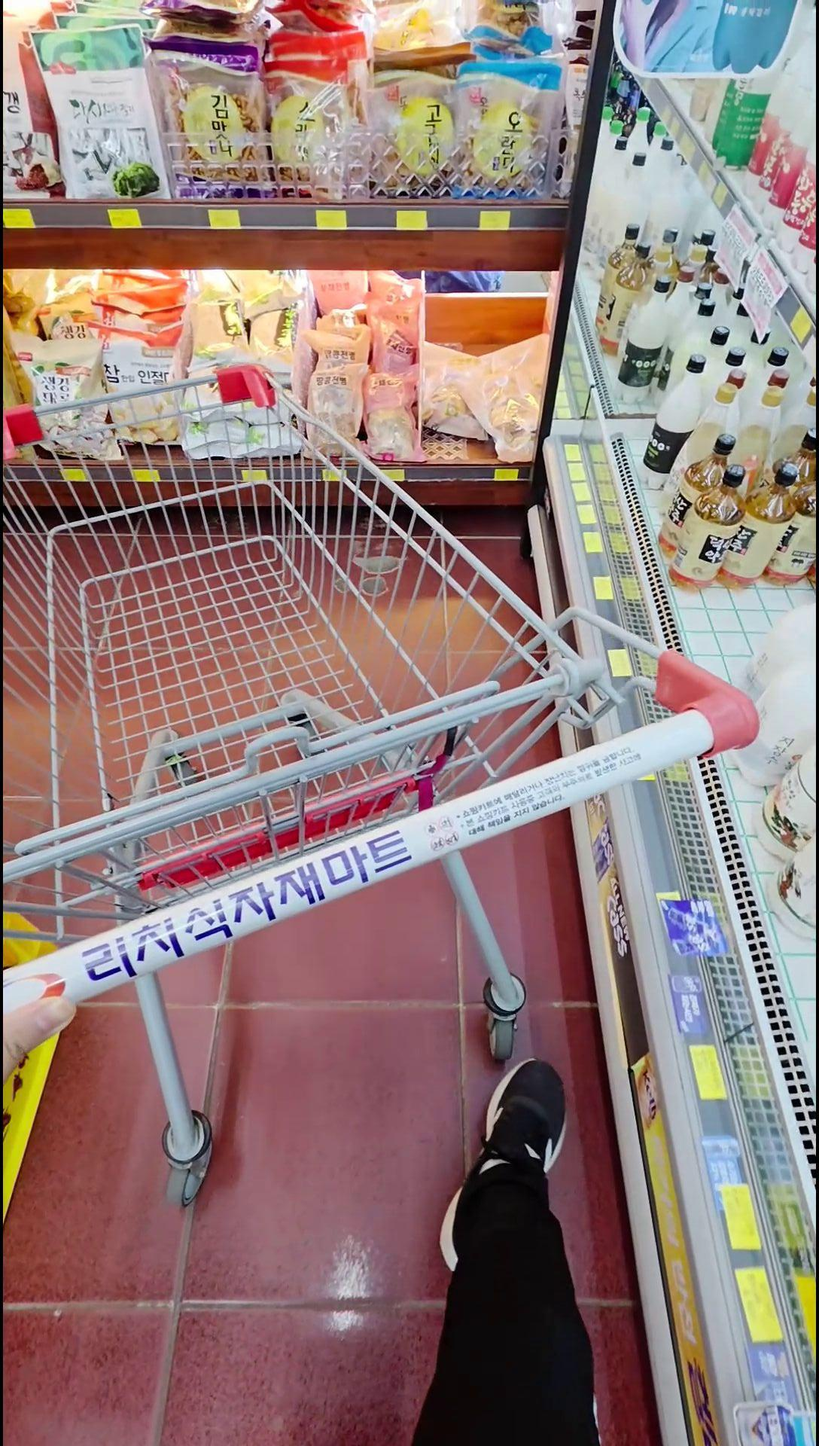empty_cart: (5, 359, 770, 1211)
